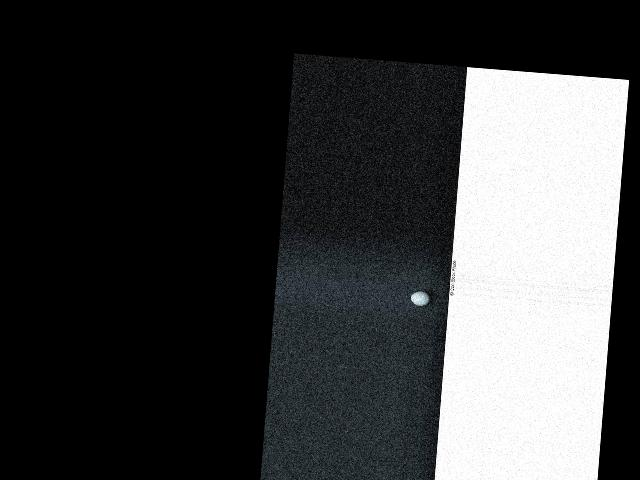egg: (410, 290, 430, 306)
